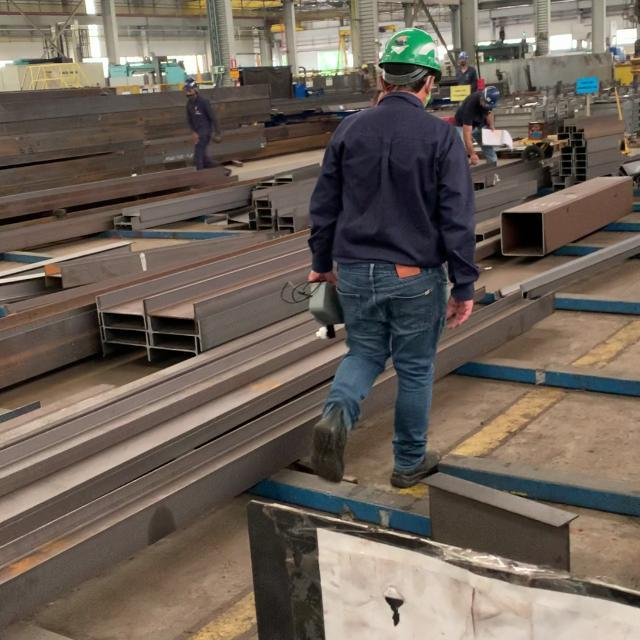glove: (374, 28, 453, 82)
mask: (300, 26, 476, 493)
safety-shoe: (308, 406, 351, 481), (393, 448, 442, 488)
